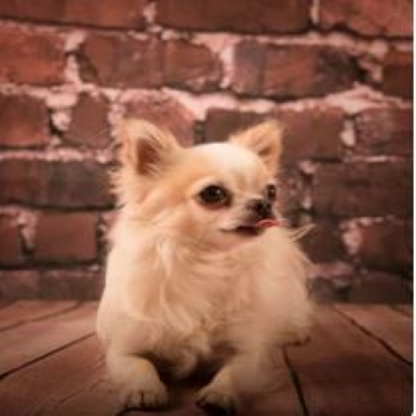chihuahua: (95, 107, 319, 411)
